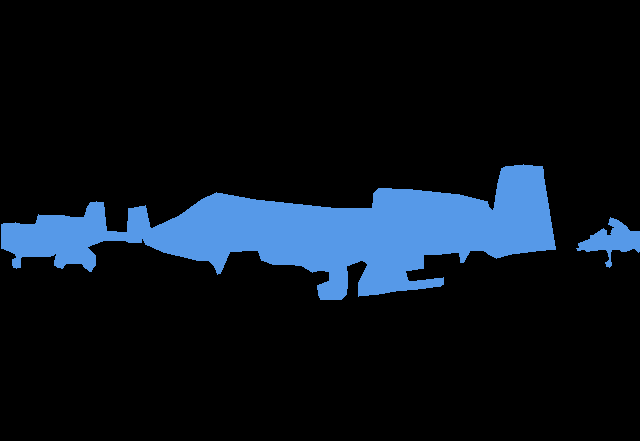Airplane: (142, 164, 556, 300), (1, 201, 150, 271), (576, 217, 640, 268)
